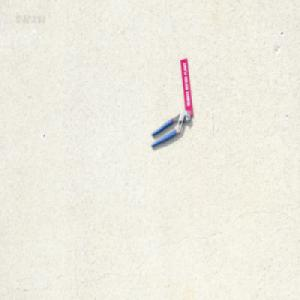Label: (180, 57, 193, 117)
Pliers: (150, 109, 190, 149)
